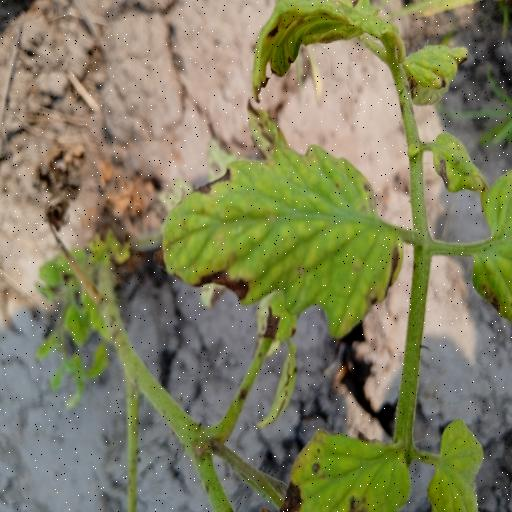Tomato_Brown_Spots: (160, 137, 408, 337), (286, 424, 418, 512)
